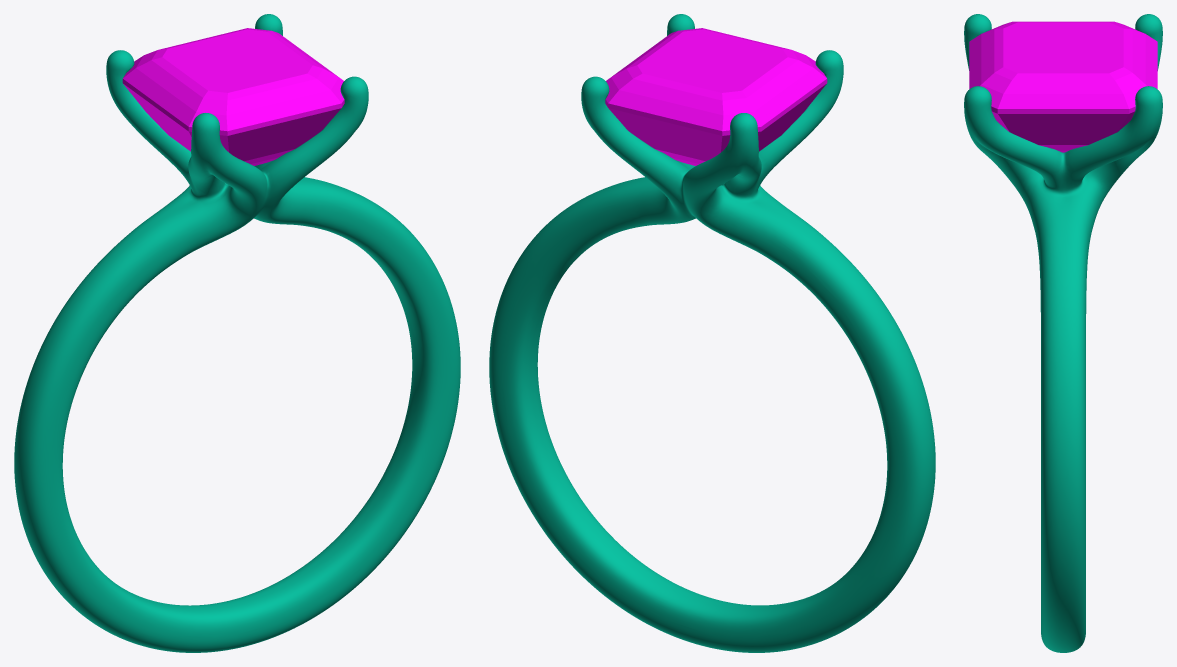
The model's file is BE1574_AS_200ct_RENDER.glb.
The picture shows the model from 3 angles, left to right: view 1: azimuth 30°, elevation 25°; view 2: azimuth 150°, elevation 25°; view 3: azimuth 270°, elevation 25°; orthographic projection.
Parts seen in each view (by area): view 1: Metal 01, CS_Diamond_Asscher; view 2: Metal 01, CS_Diamond_Asscher; view 3: Metal 01, CS_Diamond_Asscher.
Part boxes in pixels (box(x1,y1,x2,y2)): Metal 01: box(14, 14, 460, 652); CS_Diamond_Asscher: box(122, 28, 344, 165); Metal 01: box(489, 14, 935, 652); CS_Diamond_Asscher: box(605, 28, 827, 165); Metal 01: box(964, 14, 1162, 652); CS_Diamond_Asscher: box(969, 21, 1157, 152).
Size of the model in its own units: 20.11 by 25.57 by 7.92.
